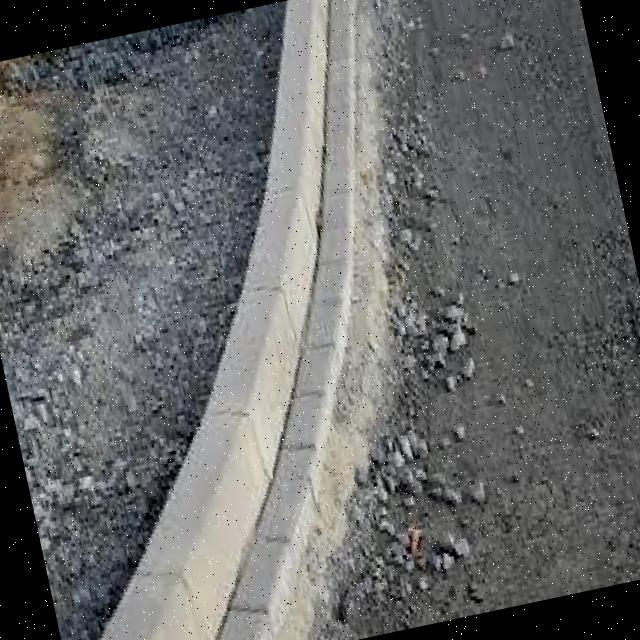curb: (74, 492, 317, 640), (179, 353, 357, 538), (196, 210, 348, 373), (259, 1, 379, 148), (256, 116, 362, 274)
